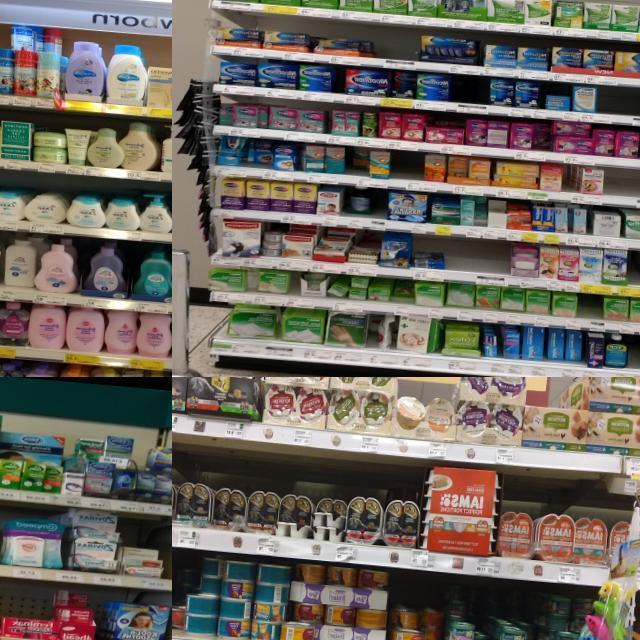Imprecise: (50, 579, 93, 640), (366, 312, 399, 353), (342, 186, 378, 220), (342, 145, 374, 177), (386, 69, 419, 99), (530, 116, 560, 148), (244, 140, 272, 166), (446, 156, 466, 181), (473, 198, 486, 226)
